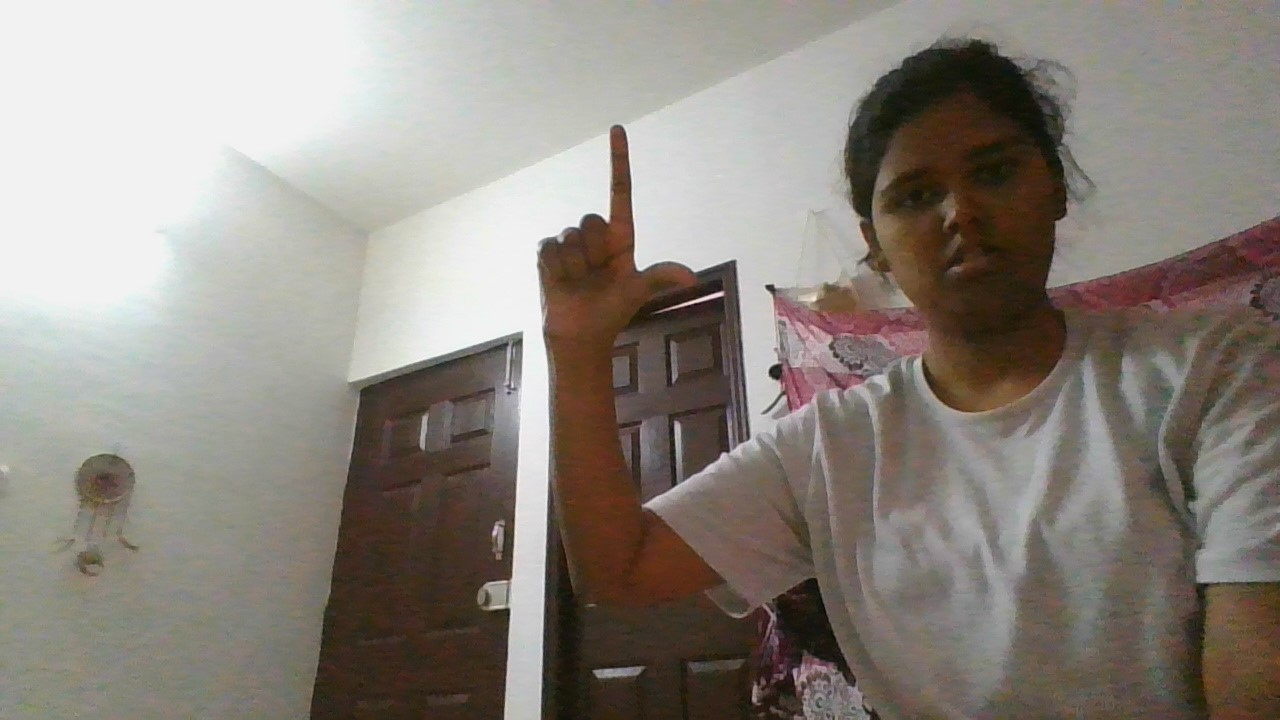l: (532, 118, 705, 359)
